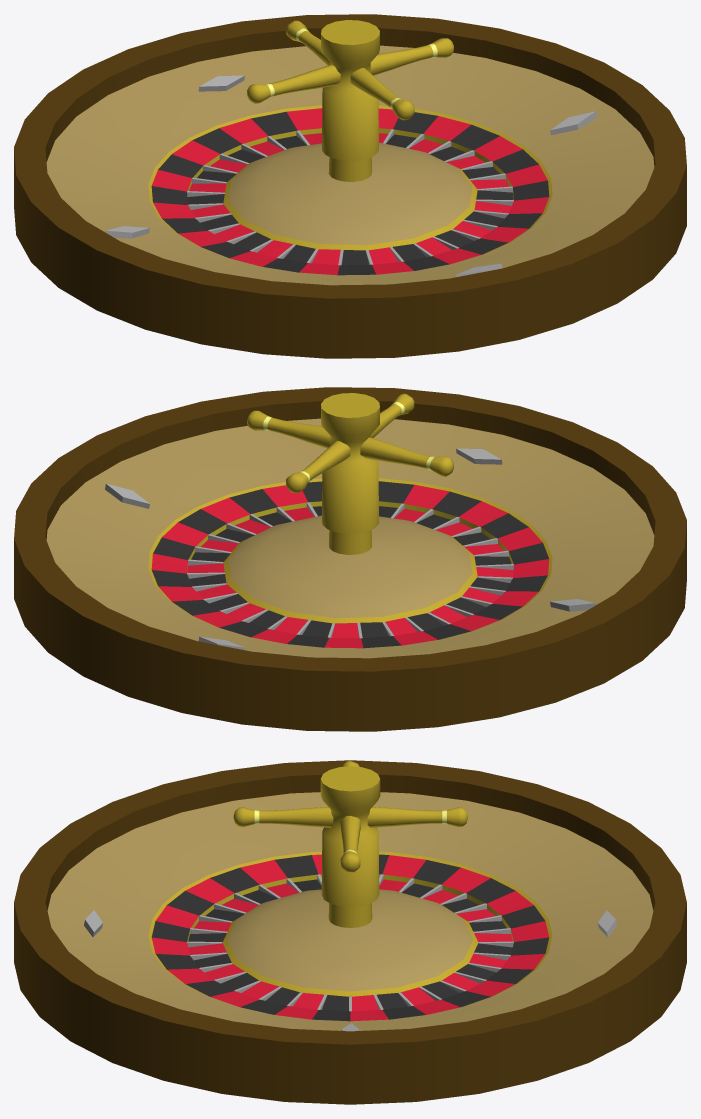
File: Roulette.fbx
3 views of the same model, one above another, from view 1: azimuth 30°, elevation 25°; view 2: azimuth 150°, elevation 25°; view 3: azimuth 270°, elevation 25° (orthographic).
Visible parts, largest first — view 1: Roulette, RouletteCross, RouletteSlotBars, RouletteBumper.002, RouletteBumper.001; view 2: Roulette, RouletteCross, RouletteSlotBars, RouletteBumper, RouletteBumper.002; view 3: Roulette, RouletteCross, RouletteSlotBars.
Part boxes in pixels (x1,y1,x2,y2): Roulette: (14,14,686,358); RouletteCross: (247,20,453,120); RouletteSlotBars: (187,129,513,265); RouletteBumper.002: (550,111,596,135); RouletteBumper.001: (198,75,244,91); Roulette: (14,387,686,731); RouletteCross: (247,393,453,493); RouletteSlotBars: (187,502,513,638); RouletteBumper: (456,448,502,464); RouletteBumper.002: (105,483,149,508); Roulette: (14,760,686,1104); RouletteCross: (233,761,467,872); RouletteSlotBars: (187,874,513,1011).
Size of what is drawn, in the model's own units: 68.57 by 68.57 by 20.65.
